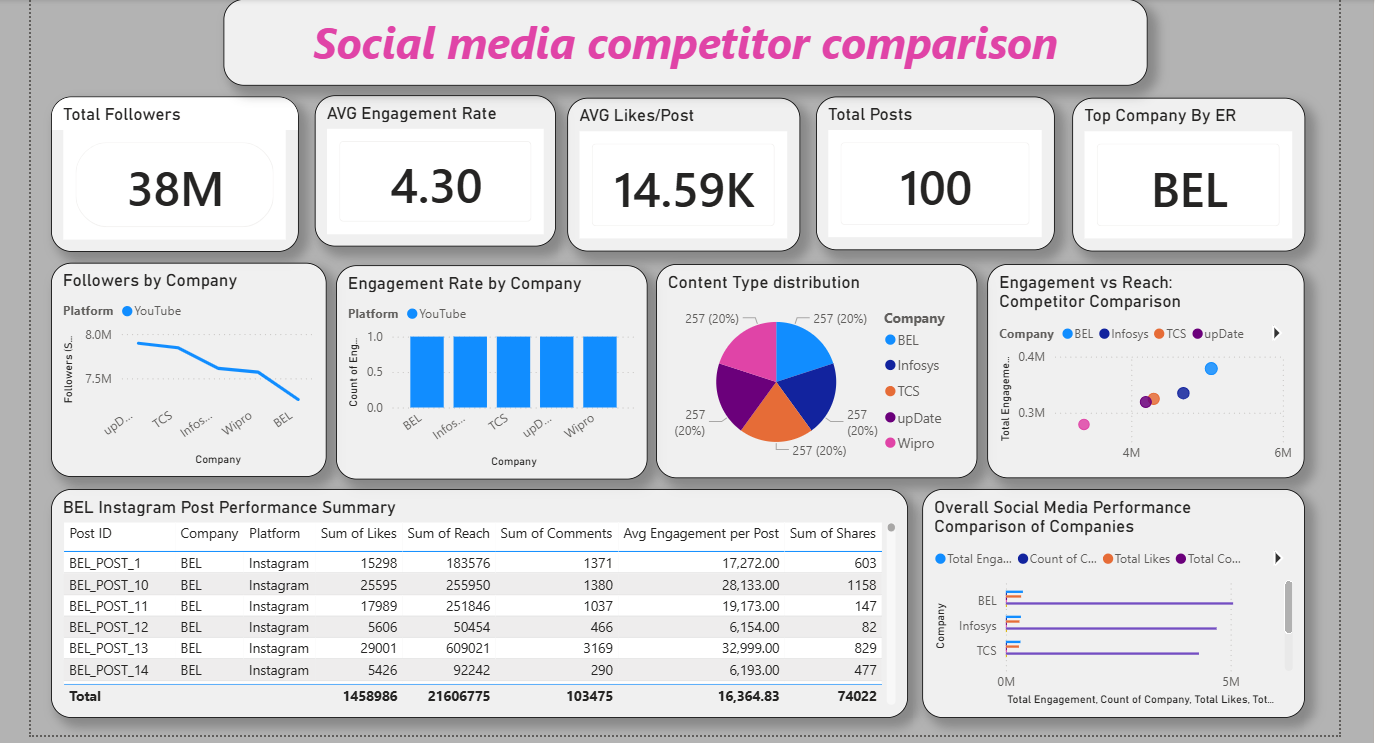

What the dashboard file says about the page in this screenshot:
{"tool":"powerbi","page":{"name":"Page 1","canvas":[1280,720],"ordinal":0},"visuals":[{"type":"cardVisual","title":"Total Followers","fields":{"Data":["Post-Level Data.Followers (Sum)"]},"box":[19.4,95.3,242.7,151.8],"z":0},{"type":"cardVisual","title":"AVG Engagement Rate","fields":{"Data":["Company Overview.Avg Engagement Rate (%)"]},"box":[277.2,94.7,236,148.2],"z":1000},{"type":"cardVisual","title":"AVG Likes/Post","fields":{"Data":["Post-Level Data.Avg Likes per Post"]},"box":[524,96.8,227.8,150.4],"z":2000},{"type":"cardVisual","title":"Total Posts","fields":{"Data":["Post-Level Data.Total Posts"]},"box":[768.2,95.3,233.7,150.4],"z":3000},{"type":"cardVisual","title":"Top Company By ER","fields":{"Data":["Company Overview.TopCompanyByER"]},"box":[1018.3,96.8,227.8,150.4],"z":4000},{"type":"lineChart","title":"Followers by Company","fields":{"Category":["Company_Clean.Company"],"Series":["Company_Clean.Platform"],"Y":["Post-Level Data.Followers (Sum)"]},"box":[19.4,257.5,269.5,209.9],"z":5000},{"type":"clusteredColumnChart","title":"Engagement Rate by Company","fields":{"Category":["Company_Clean.Company"],"Y":["CountNonNull(Company_Clean.Engagement Rate)"],"Series":["Company_Clean.Platform"]},"box":[297.8,260.7,304.6,209.9],"z":6000},{"type":"pieChart","title":"Content Type distribution","fields":{"Category":["Company Overview.Company"],"Y":["Sum(Content Type Distribution.Reels (%))"]},"box":[612,259.3,314.2,209.9],"z":7000},{"type":"tableEx","title":"BEL Instagram Post Performance Summary","fields":{"Values":["Post-Level Data.Post ID","Post-Level Data.Company","Post-Level Data.Platform","Sum(Post-Level Data.Likes)","Sum(Post-Level Data.Reach)","Sum(Post-Level Data.Comments)","Post-Level Data.Avg Engagement per Post","Sum(Post-Level Data.Shares)"]},"box":[19.2,478.9,838.4,223.7],"z":8000},{"type":"scatterChart","title":"Engagement vs Reach: Competitor Comparison","fields":{"Y":["Post-Level Data.Total Engagement"],"X":["Post-Level Data.Total Reach"],"Size":["Sum(Post-Level Data.Likes)"],"Series":["Post-Level Data.Company"]},"box":[935.9,259.3,310.1,209.9],"z":9000},{"type":"clusteredBarChart","title":"Overall Social Media Performance Comparison of Companies","fields":{"Y":["Post-Level Data.Total Engagement","CountNonNull(Post-Level Data.Company)","Post-Level Data.Total Likes","Post-Level Data.Total Comments","Post-Level Data.Total Posts","Post-Level Data.Total Reach","Post-Level Data.Total Shares"],"Category":["Post-Level Data.Company"]},"box":[871.4,478.9,374.6,223.7],"z":10000},{"type":"textbox","box":[188,0,904.3,85.1],"z":11000}]}

Visuals, with their boxes in screenshot pixels (x1, y1, x2, y2):
"Total Followers" cardVisual: (x1=52, y1=93, x2=298, y2=247)
"AVG Engagement Rate" cardVisual: (x1=314, y1=93, x2=553, y2=243)
"AVG Likes/Post" cardVisual: (x1=564, y1=95, x2=795, y2=247)
"Total Posts" cardVisual: (x1=812, y1=93, x2=1049, y2=246)
"Top Company By ER" cardVisual: (x1=1066, y1=95, x2=1297, y2=247)
"Followers by Company" lineChart: (x1=52, y1=258, x2=326, y2=471)
"Engagement Rate by Company" clusteredColumnChart: (x1=335, y1=261, x2=644, y2=474)
"Content Type distribution" pieChart: (x1=654, y1=260, x2=973, y2=473)
"BEL Instagram Post Performance Summary" tableEx: (x1=52, y1=483, x2=903, y2=710)
"Engagement vs Reach: Competitor Comparison" scatterChart: (x1=982, y1=260, x2=1297, y2=473)
"Overall Social Media Performance Comparison of Companies" clusteredBarChart: (x1=917, y1=483, x2=1297, y2=710)
textbox: (x1=223, y1=0, x2=1141, y2=83)
